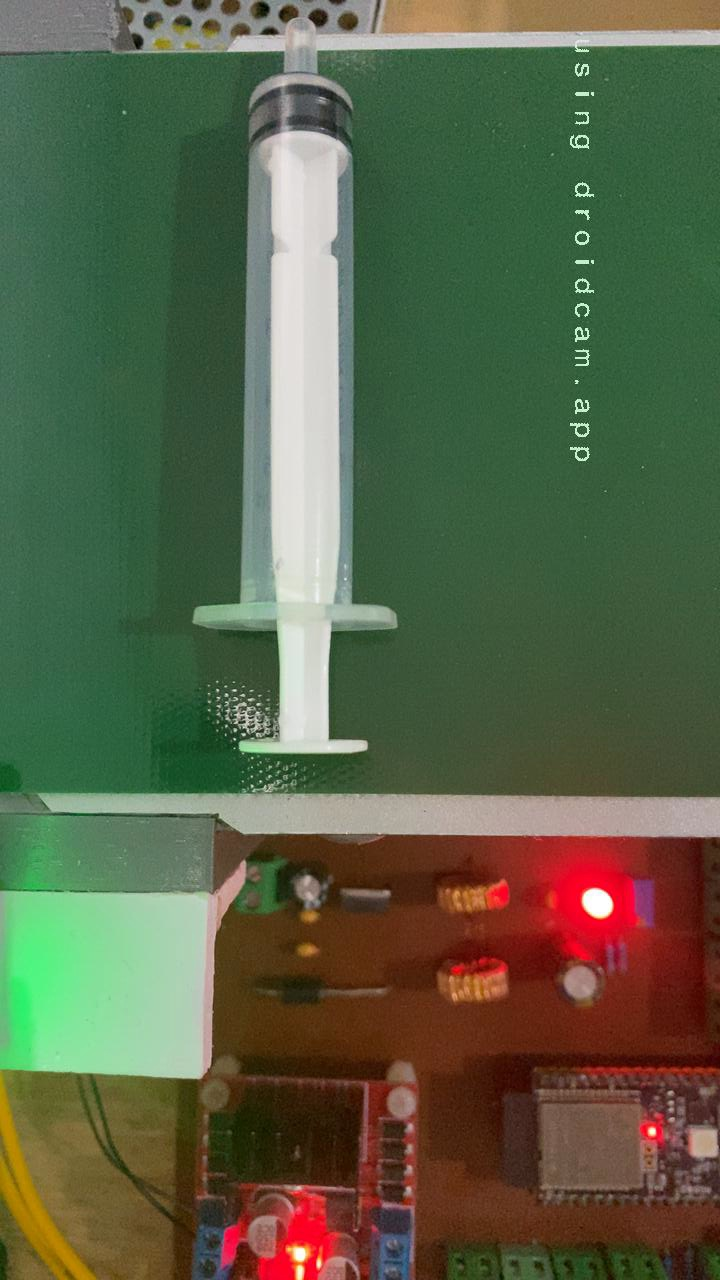syringe: (0, 48, 403, 761)
